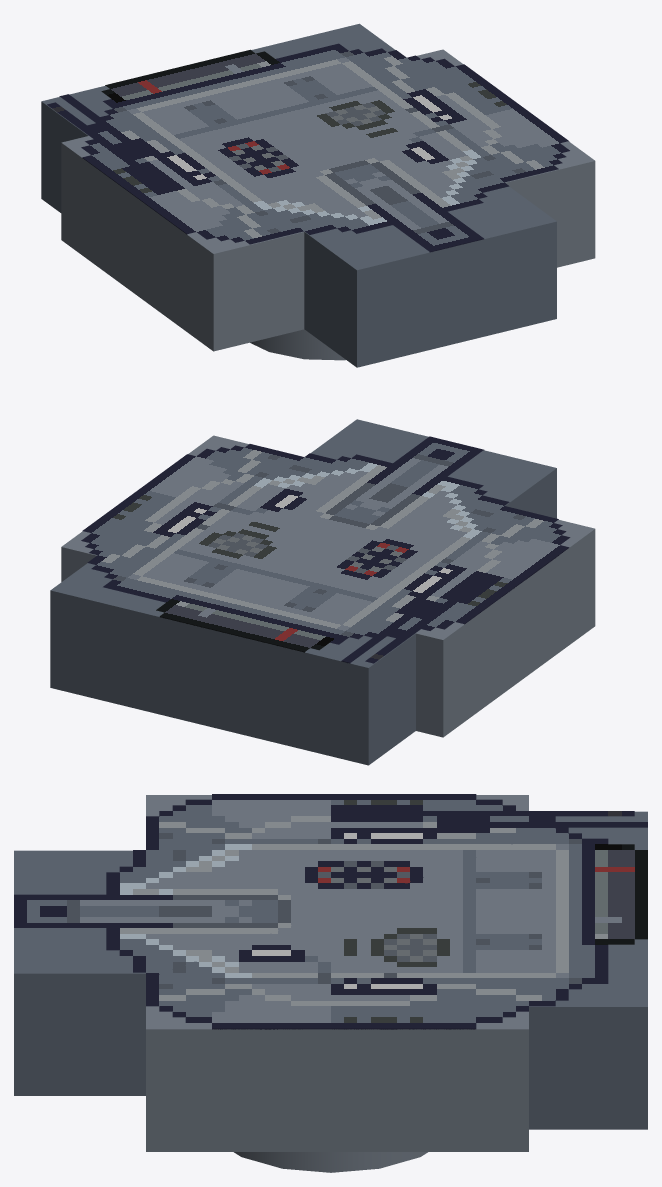
The model's file is CMU3DReduxVehicleTankTurretTWEMounted.glb.
3 views of the same model, one above another, from view 1: azimuth 30°, elevation 25°; view 2: azimuth 150°, elevation 25°; view 3: azimuth 270°, elevation 25° (orthographic). The views are drawn at different scales.
Parts seen in each view (by area): view 1: turret original finish, turret section (×5), turret bearing; view 2: turret original finish, turret section (×5); view 3: turret original finish, turret section (×5), turret bearing.
Boxes of the visible parts, bbox=[...] form: turret original finish: bbox=[47, 43, 569, 252]; turret section (×5): bbox=[41, 23, 595, 367]; turret bearing: bbox=[250, 329, 345, 360]; turret original finish: bbox=[81, 436, 570, 663]; turret section (×5): bbox=[50, 419, 595, 765]; turret original finish: bbox=[14, 794, 647, 1029]; turret section (×5): bbox=[14, 795, 647, 1151]; turret bearing: bbox=[234, 1152, 427, 1172].
Size of the model in its own units: 1.31 by 0.542 by 1.5.
Materials: 3 (1 with a texture image).
